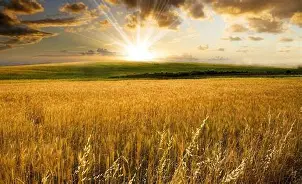crops: (0, 76, 298, 180), (0, 60, 296, 79), (219, 80, 302, 117), (0, 85, 59, 122)
